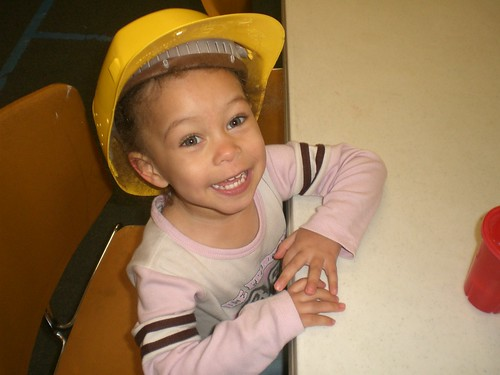person hardhat: (84, 8, 377, 369)
